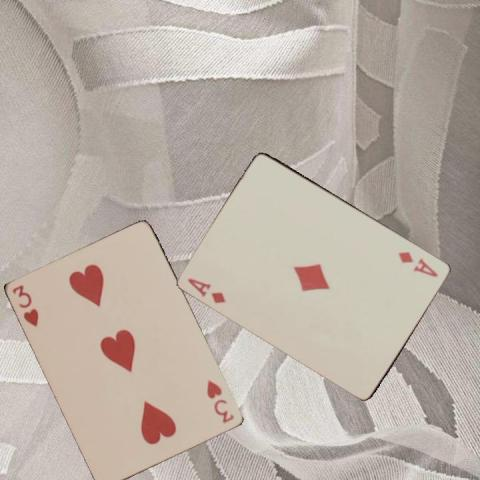3h: (204, 377, 236, 426), (9, 282, 41, 329)
Ad: (395, 248, 440, 279), (185, 274, 228, 304)
